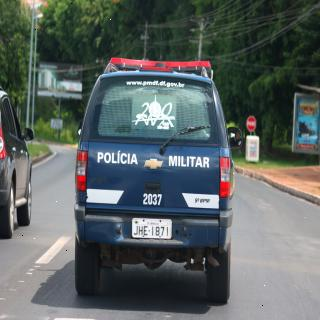license: (134, 218, 173, 240)
